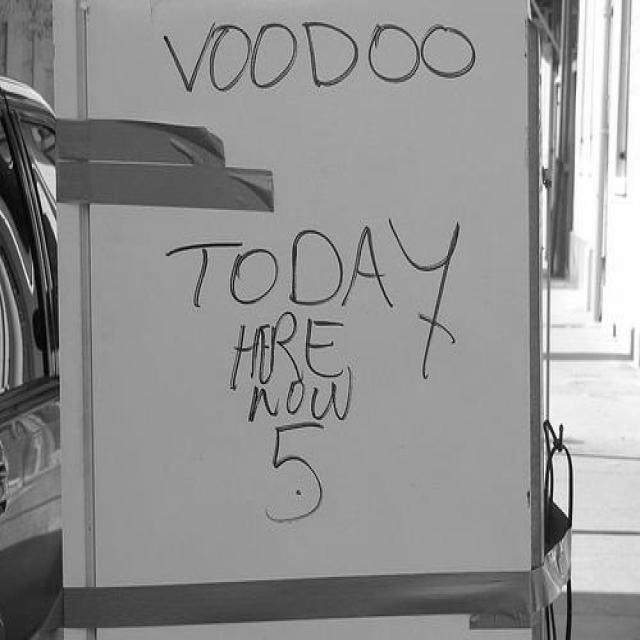vehicle: (0, 75, 64, 639)
